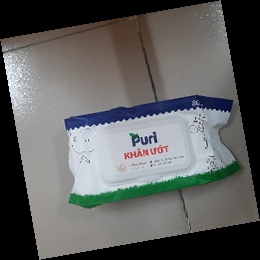Puri Trang: (58, 93, 245, 211)
